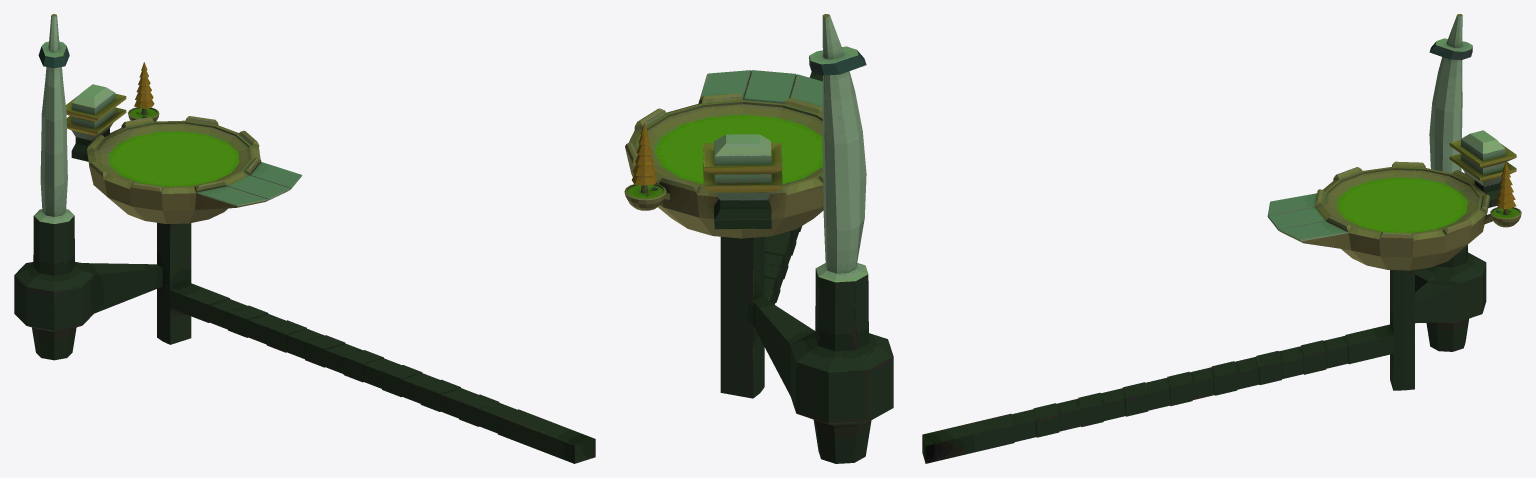
Rendered from base_Dinamiques.fbx.
The picture shows the model from 3 angles, left to right: view 1: azimuth 30°, elevation 25°; view 2: azimuth 150°, elevation 25°; view 3: azimuth 270°, elevation 25°; orthographic projection. The views are drawn at different scales.
Parts seen in each view (by area): view 1: Base_Fisiques; view 2: Base_Fisiques; view 3: Base_Fisiques.
Boxes of the visible parts, bbox=[...] form: Base_Fisiques: bbox=[14, 14, 595, 463]; Base_Fisiques: bbox=[624, 14, 893, 463]; Base_Fisiques: bbox=[922, 14, 1521, 463].
Size of the model in its own units: 94.43 by 95.29 by 156.
